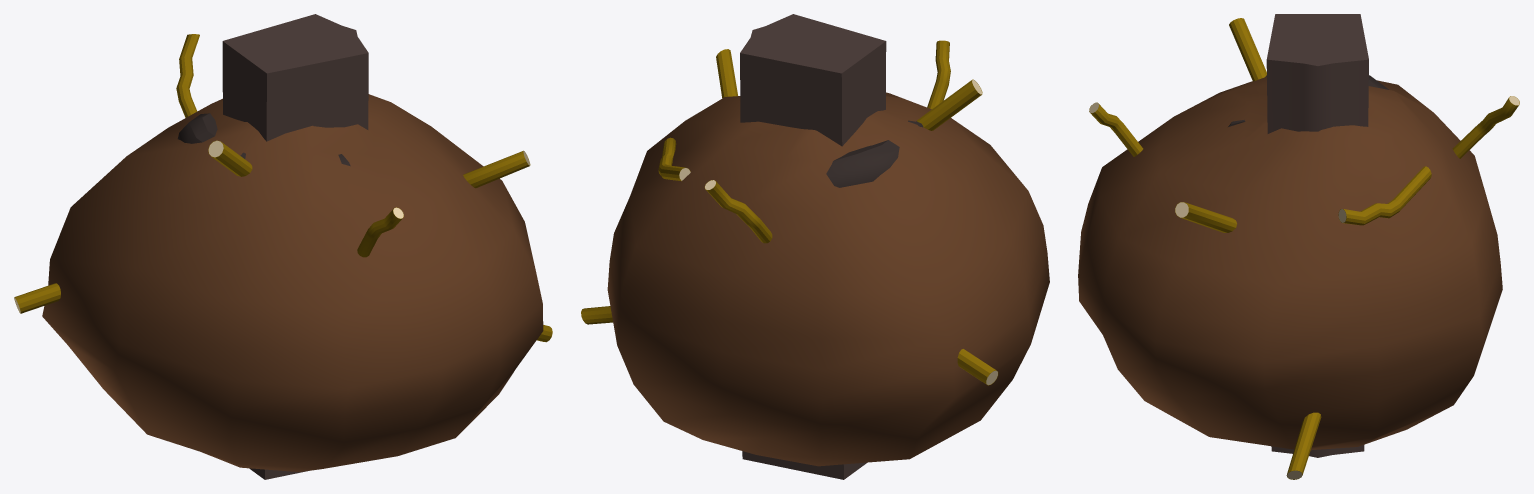
Rendered from Substrato marrom.fbx.
3 renders of one model, left to right at view 1: azimuth 30°, elevation 25°; view 2: azimuth 150°, elevation 25°; view 3: azimuth 270°, elevation 25°, orthographic. The views are drawn at different scales.
Parts seen in each view (by area): view 1: Substrato_marrom_MESH, Fumo_de_corda_MESH, Lenha_MESH3.001, Lenha_MESH1.001, Lenha_MESH2.001, Corda_MESH.001, Lenha_MESH; view 2: Substrato_marrom_MESH, Fumo_de_corda_MESH, Corda_MESH.001, Lenha_MESH2.001, Lenha_MESH3.001, Lenha_MESH1.001, Lenha_MESH, Lenha_MESH4.001; view 3: Substrato_marrom_MESH, Fumo_de_corda_MESH, Lenha_MESH2.001, Lenha_MESH4.001, Lenha_MESH1.001, Lenha_MESH3.001, Lenha_MESH.
Part boxes in pixels (x1=…): Substrato_marrom_MESH: x1=42, y1=94, x2=543, y2=471; Fumo_de_corda_MESH: x1=222, y1=14, x2=368, y2=479; Lenha_MESH3.001: x1=14, y1=150, x2=530, y2=313; Lenha_MESH1.001: x1=176, y1=34, x2=199, y2=117; Lenha_MESH2.001: x1=208, y1=140, x2=552, y2=342; Corda_MESH.001: x1=177, y1=113, x2=350, y2=166; Lenha_MESH: x1=357, y1=207, x2=403, y2=257; Substrato_marrom_MESH: x1=607, y1=92, x2=1049, y2=466; Fumo_de_corda_MESH: x1=740, y1=14, x2=886, y2=479; Corda_MESH.001: x1=826, y1=120, x2=923, y2=187; Lenha_MESH2.001: x1=581, y1=79, x2=982, y2=324; Lenha_MESH3.001: x1=716, y1=49, x2=998, y2=385; Lenha_MESH1.001: x1=704, y1=180, x2=772, y2=243; Lenha_MESH: x1=927, y1=40, x2=950, y2=109; Lenha_MESH4.001: x1=658, y1=137, x2=690, y2=181; Substrato_marrom_MESH: x1=1078, y1=76, x2=1502, y2=450; Fumo_de_corda_MESH: x1=1266, y1=14, x2=1368, y2=457; Lenha_MESH2.001: x1=1229, y1=18, x2=1321, y2=479; Lenha_MESH4.001: x1=1338, y1=166, x2=1431, y2=225; Lenha_MESH1.001: x1=1452, y1=96, x2=1519, y2=158; Lenha_MESH3.001: x1=1175, y1=202, x2=1236, y2=232; Lenha_MESH: x1=1089, y1=102, x2=1143, y2=156.
Size of the model in its own units: 28.12 by 23.13 by 23.65.
